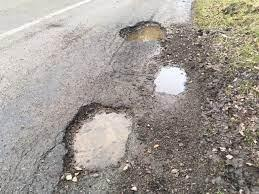pothole: (61, 98, 141, 177), (114, 17, 169, 46), (151, 60, 192, 97)
